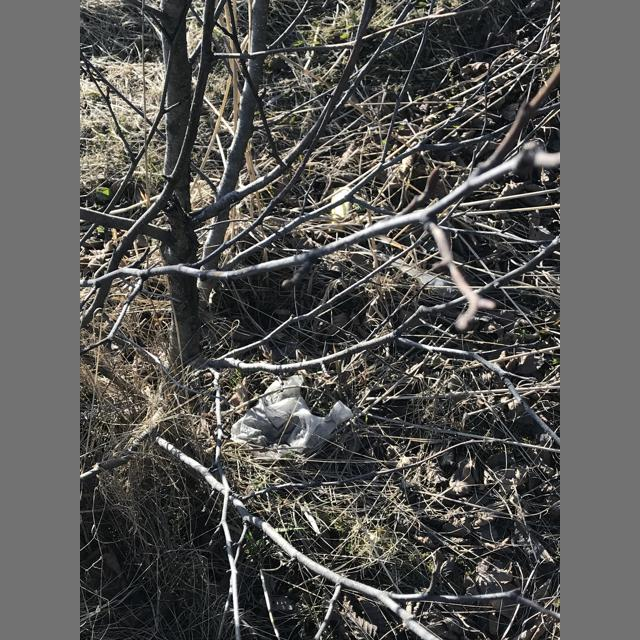litter: (230, 375, 354, 461), (326, 190, 352, 233)
